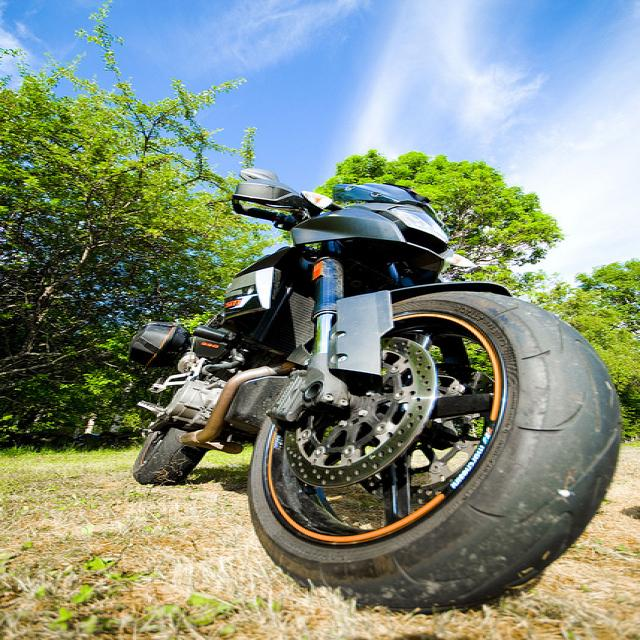motor: (125, 183, 617, 616)
